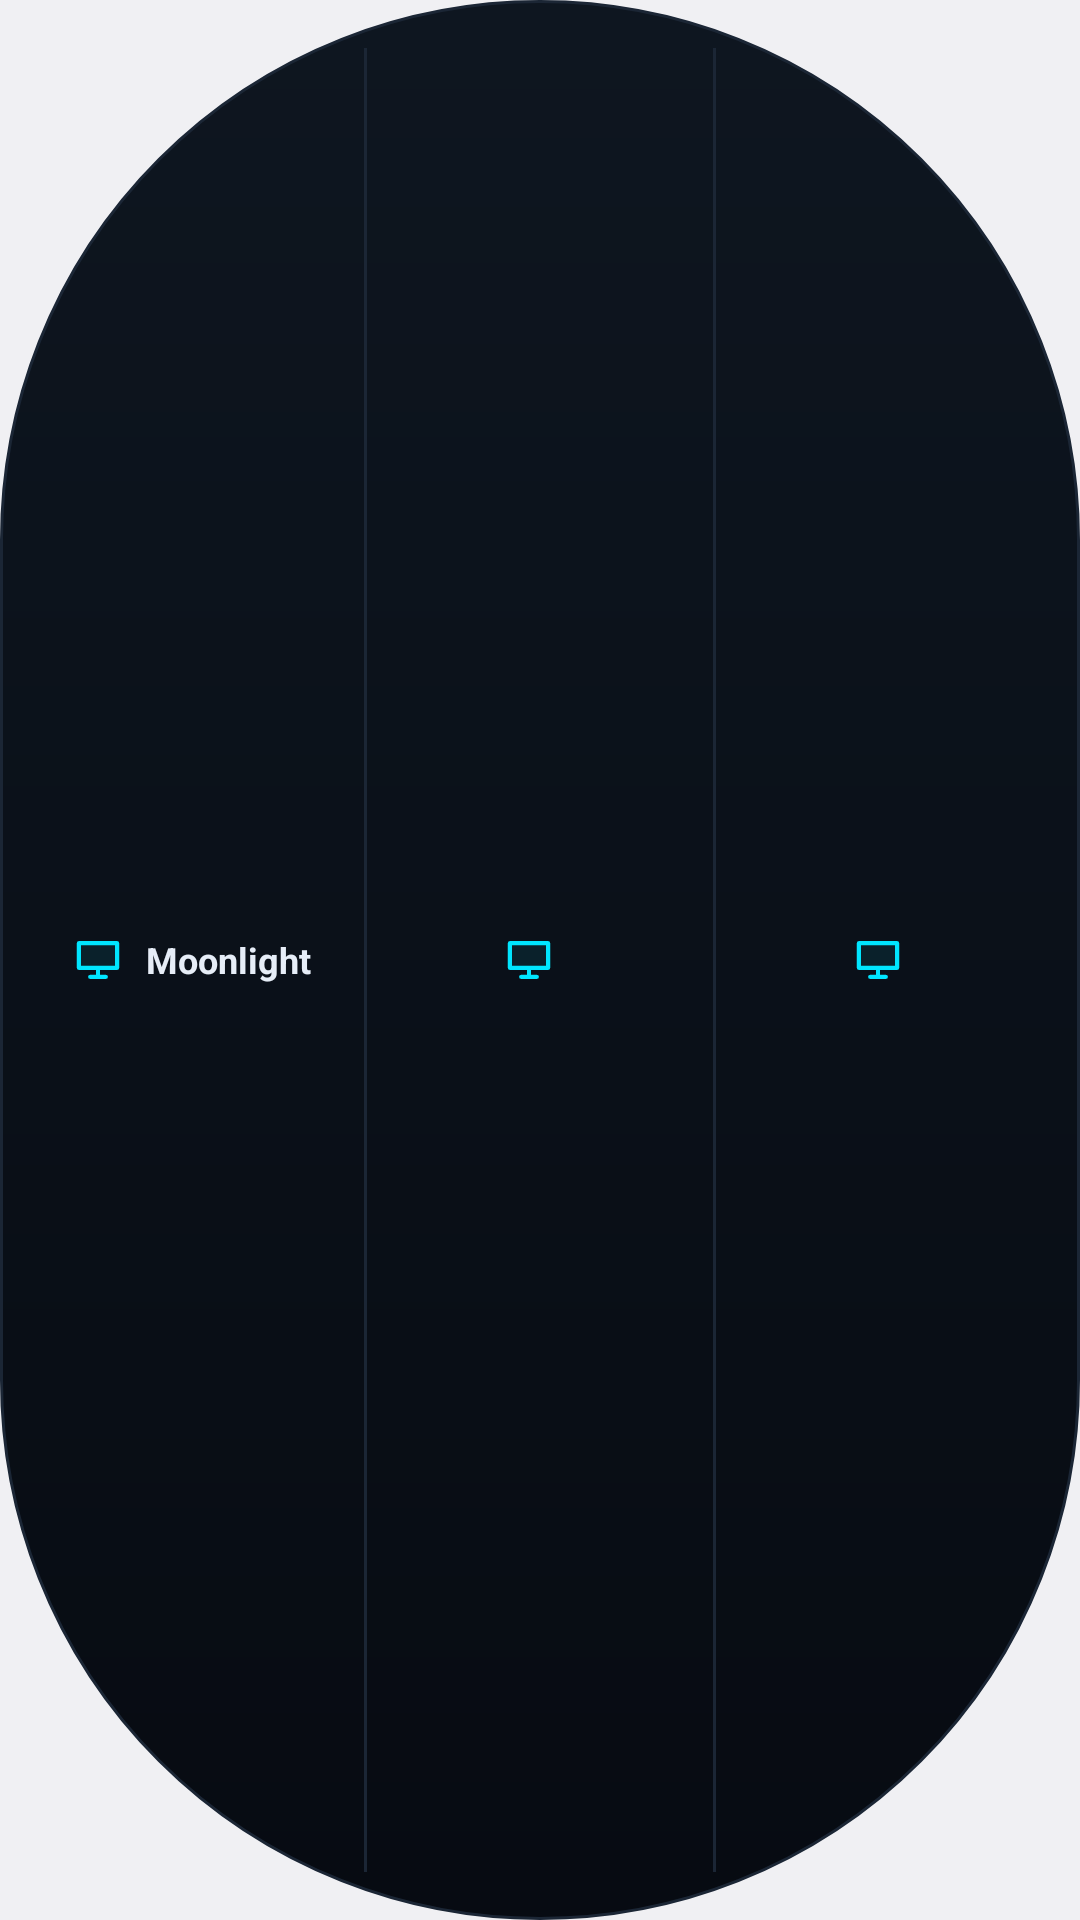

Icons on this 1080w x 1920h Android screen, each with its box as [left=x1, top=y1, right=x2, bottom=y2]:
monitor: [left=76, top=941, right=120, bottom=979], [left=507, top=941, right=551, bottom=979], [left=856, top=941, right=900, bottom=979]
